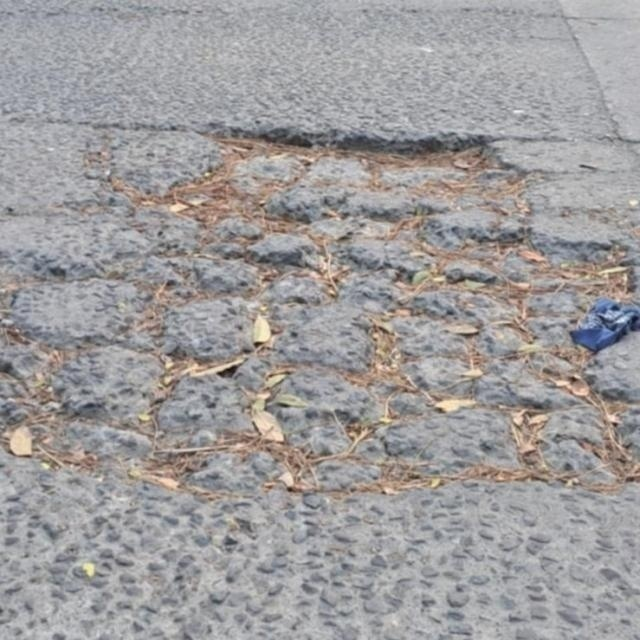pothole: (85, 78, 640, 569)
